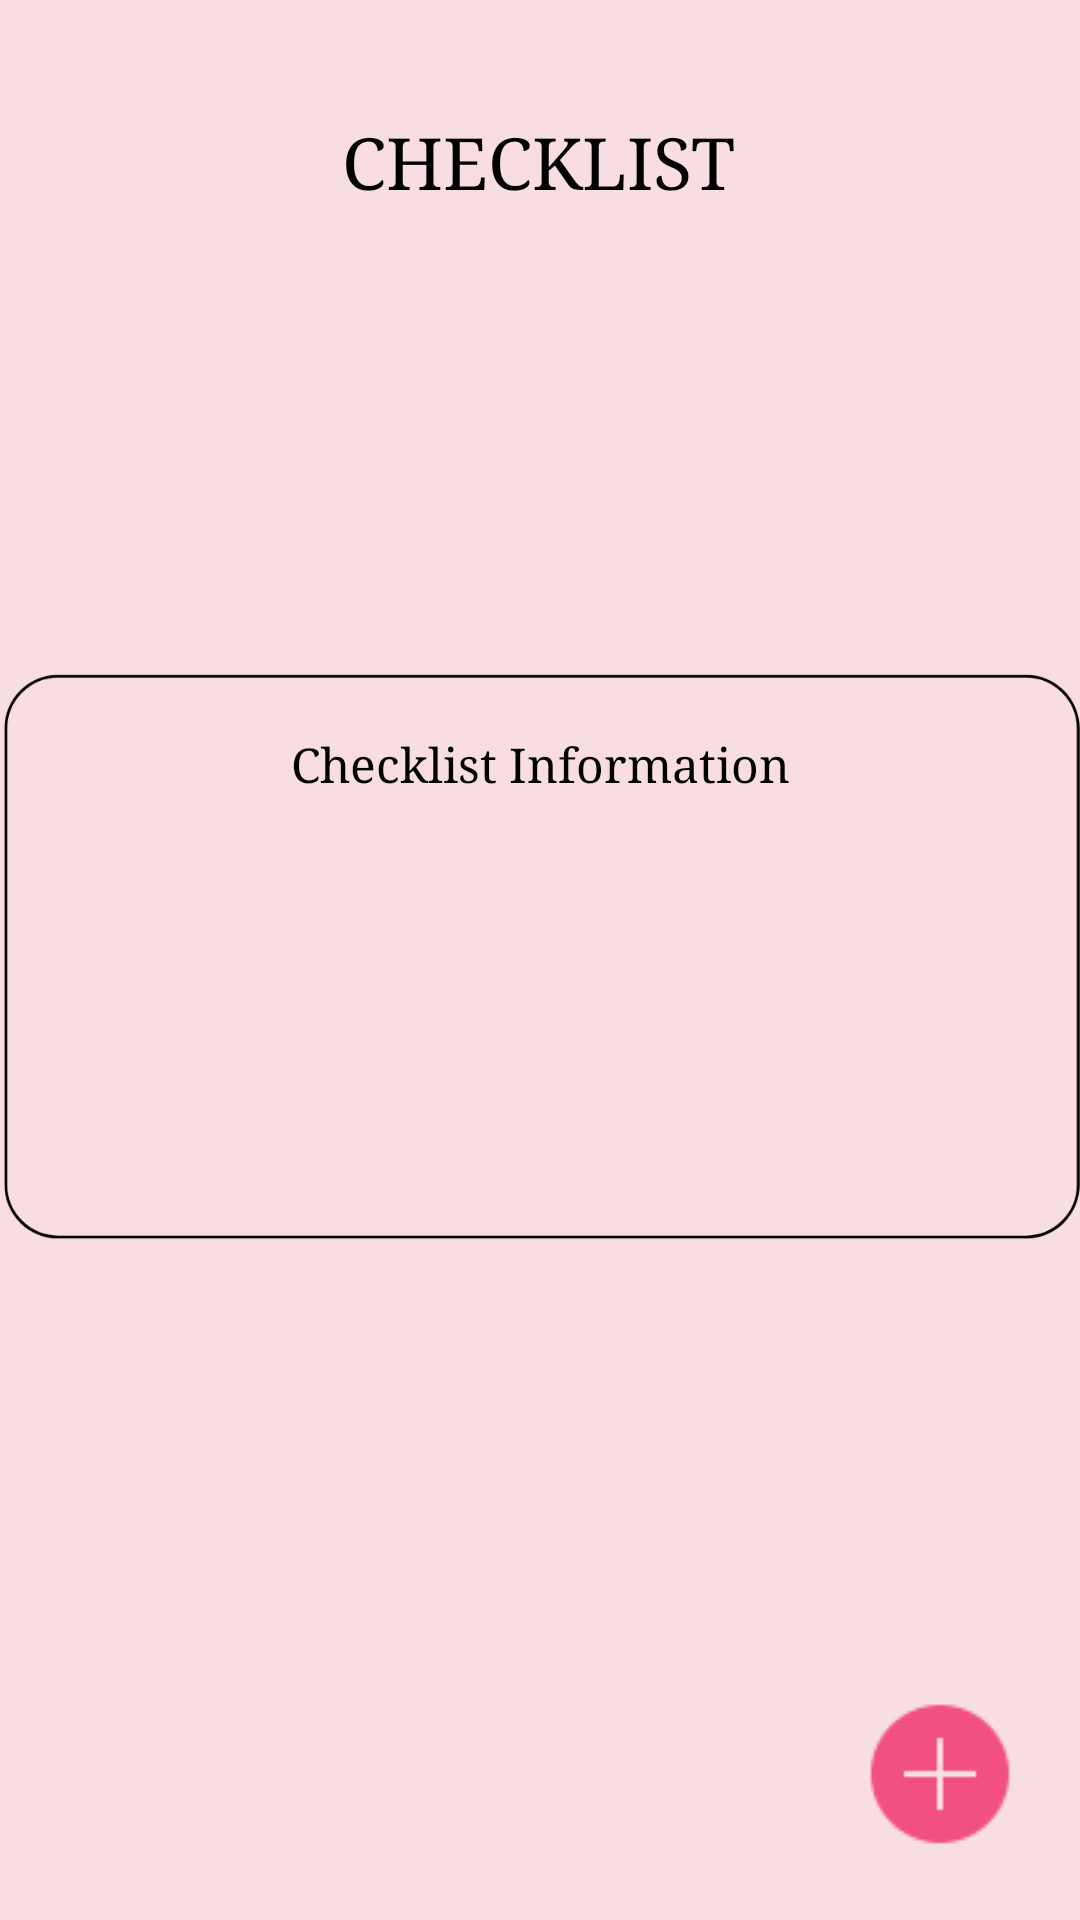

Named icons in this screenshot (1080×1920) and their bounding boxes, (x1, y1, x2, y2):
plus: (870, 1704, 1010, 1844)
